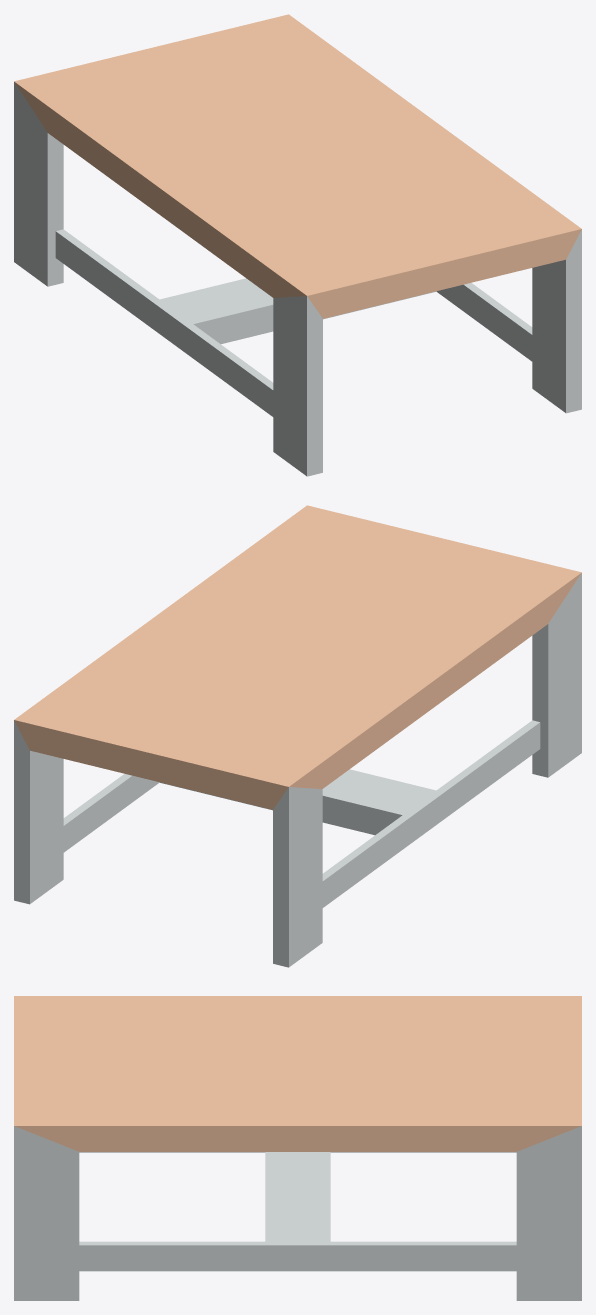
Rendered from meeting-table.glb.
The picture shows the model from 3 angles, top to bottom: view 1: azimuth 30°, elevation 25°; view 2: azimuth 150°, elevation 25°; view 3: azimuth 270°, elevation 25°; orthographic projection. The views are drawn at different scales.
Parts seen in each view (by area): view 1: vendor-desktop, vendor-aluminium; view 2: vendor-desktop, vendor-aluminium; view 3: vendor-desktop, vendor-aluminium.
Part boxes in pixels (x1,y1,x2,y2): vendor-desktop: [14, 14, 581, 318]; vendor-aluminium: [14, 82, 581, 476]; vendor-desktop: [14, 505, 581, 809]; vendor-aluminium: [14, 573, 581, 967]; vendor-desktop: [14, 996, 581, 1151]; vendor-aluminium: [14, 1126, 581, 1300].
Bounding box in the file's own units: 2.01 × 1.26 × 3.71.
1 material, 1 textured.
